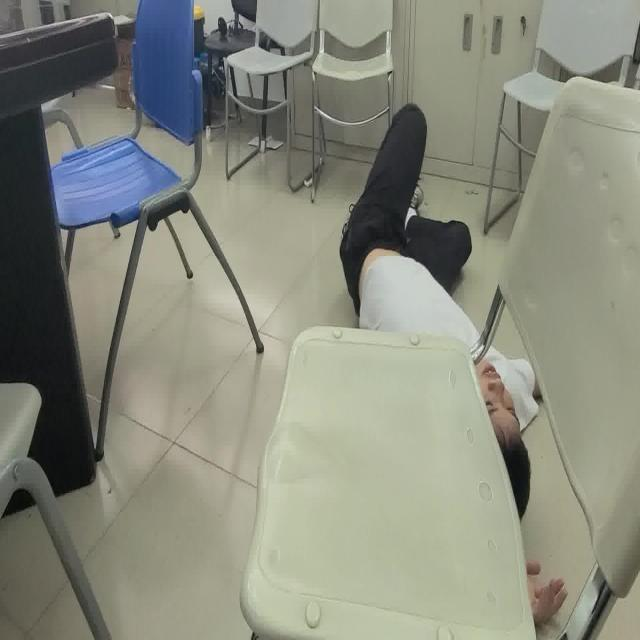fall: (338, 97, 566, 613)
